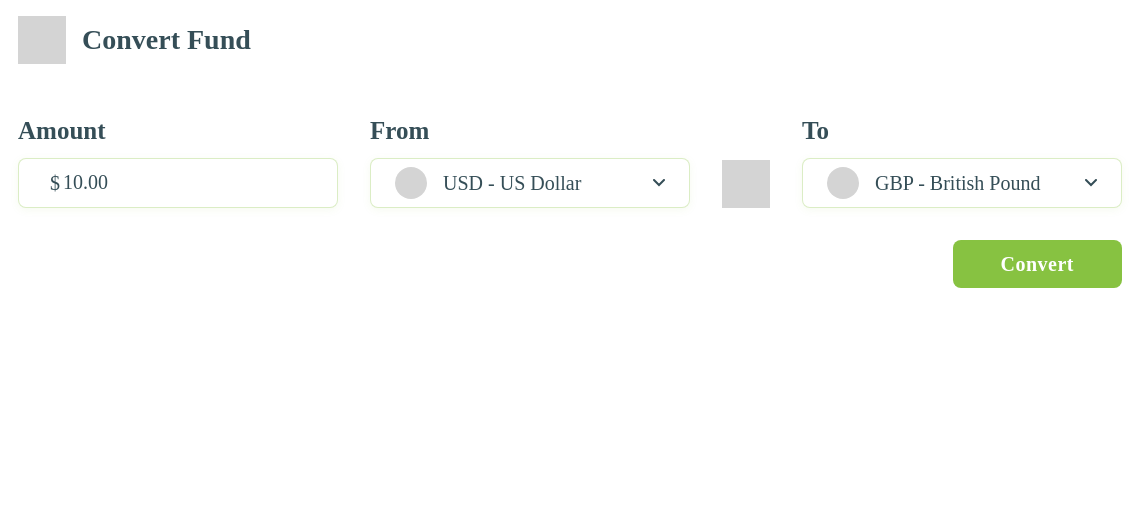
Test: Converter Component › Currency Conversion › should successfully convert currency when convert button is clicked
Note: Enter amount
Type "100" into the number field labelled "Amount".
click(178, 182); type("100")  # box [18,158,338,208]
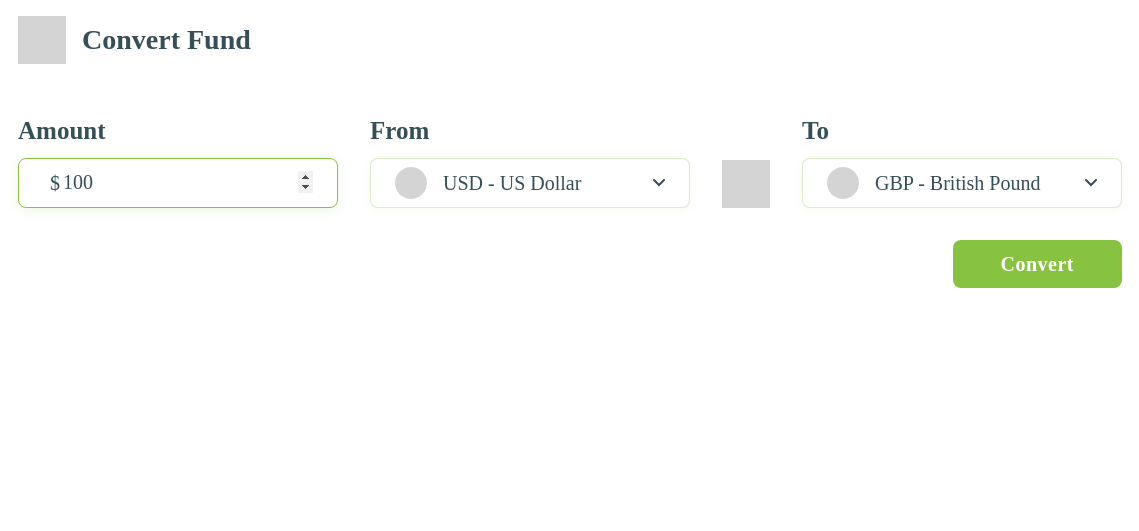
Note: Click Convert button
Click the button "Convert".
click(1037, 264)  # box [952,240,1122,288]
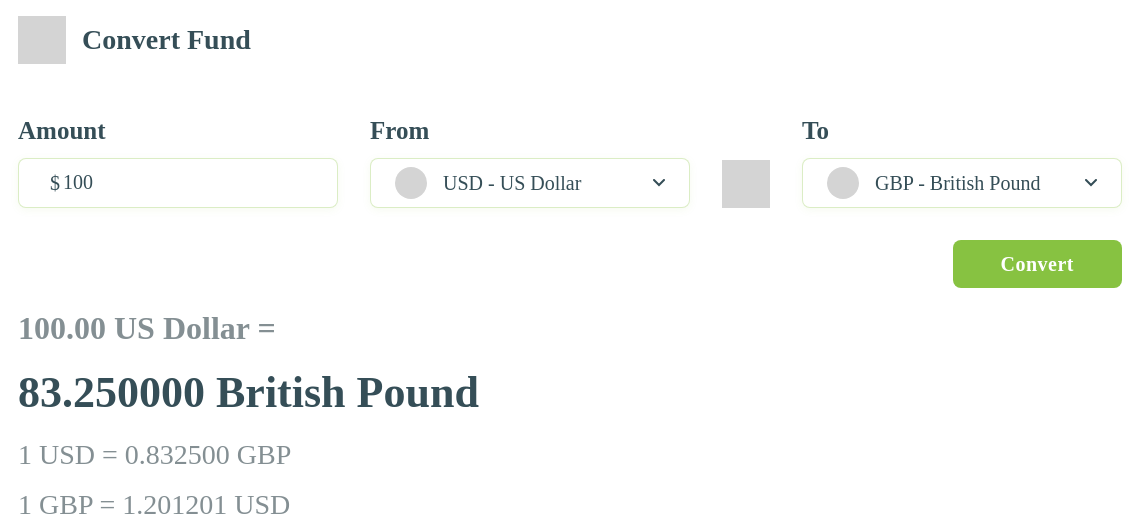
Check: the text "100.00 US Dollar =" is shown, box [18,310,276,346]
Check: the text "83.250000 British Pound" is shown, box [18,368,479,416]
